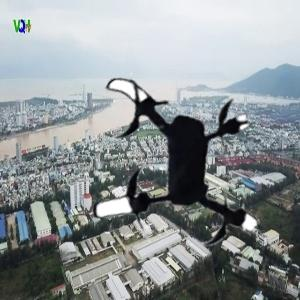drone: (62, 61, 274, 273)
